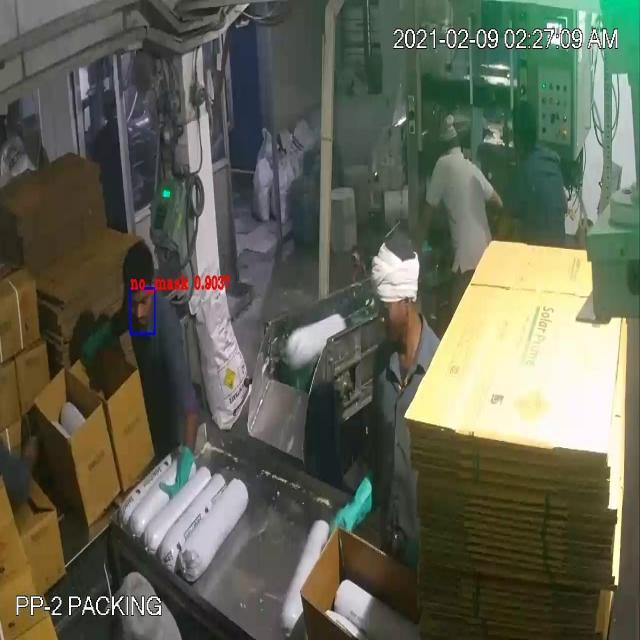Gloves: (31, 54, 420, 502)
